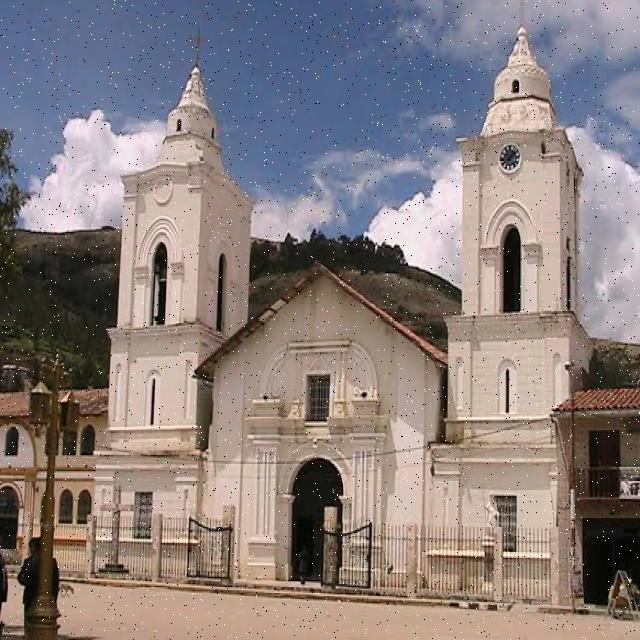CAMPANARIO: (456, 106, 594, 318), (106, 154, 256, 341)
CUPULA: (482, 35, 566, 148), (150, 70, 230, 162)
PORTADA CENTRAL: (278, 434, 360, 594)
SIMETRIA COLONIAL: (69, 0, 613, 628)
TORRES: (91, 44, 272, 576), (447, 0, 595, 611)
colonial-architecture-: (52, 0, 632, 625)
